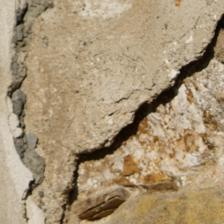Crack: (63, 24, 221, 221), (6, 1, 45, 217)
